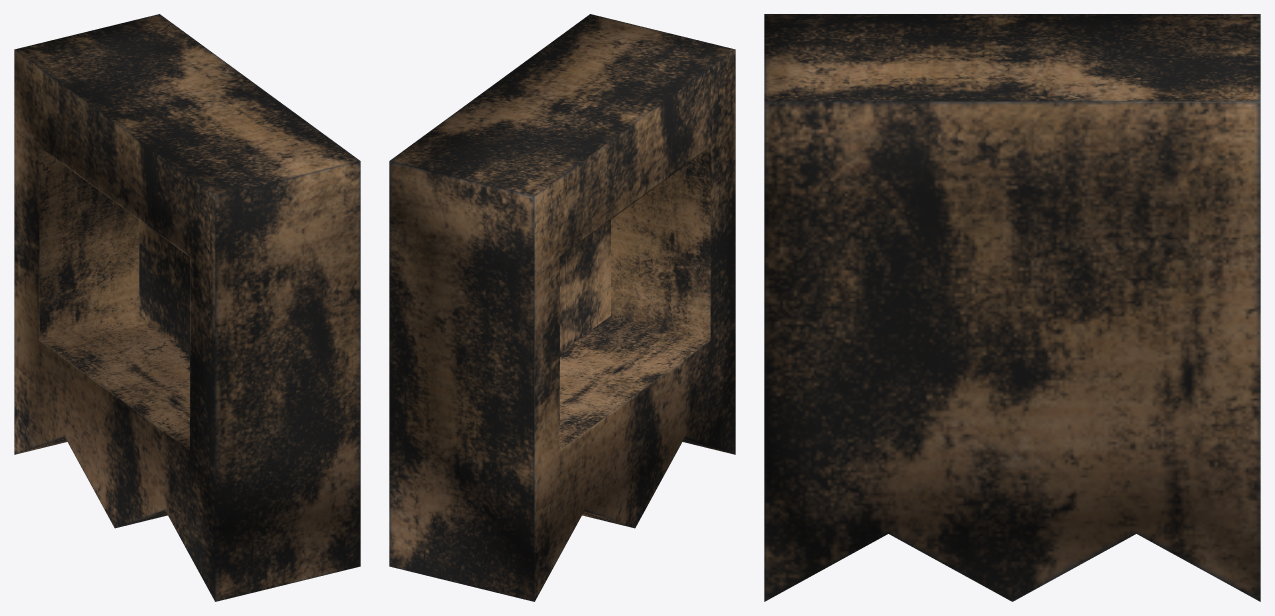
The model's file is Teatro_Atras.fbx.
3 renders of one model, left to right at view 1: azimuth 30°, elevation 25°; view 2: azimuth 150°, elevation 25°; view 3: azimuth 270°, elevation 25°, orthographic. The views are drawn at different scales.
Parts seen in each view (by area): view 1: teatro_atras_low; view 2: teatro_atras_low; view 3: teatro_atras_low.
Part boxes in pixels (x1,y1,x2,y2): teatro_atras_low: (14, 14, 360, 601); teatro_atras_low: (389, 14, 735, 601); teatro_atras_low: (764, 14, 1260, 601).
Bounding box in the file's own units: 676 × 1801 × 1618.
